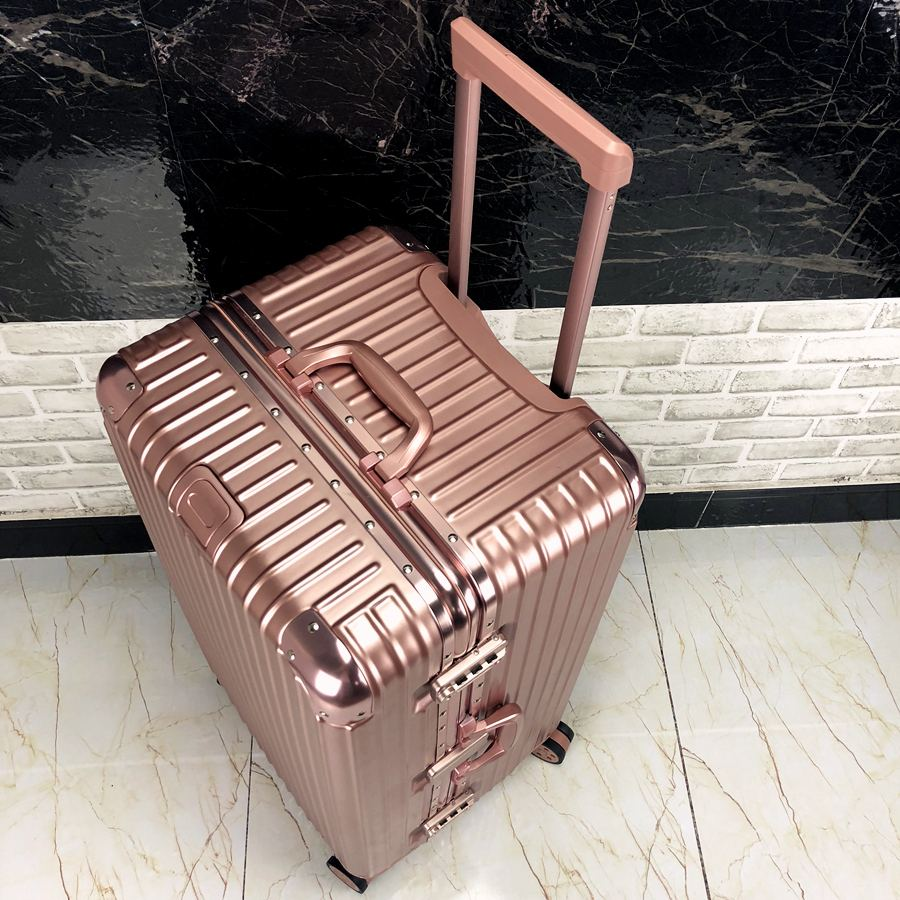box: (95, 224, 646, 877)
handle: (268, 340, 435, 510)
wheel: (532, 720, 575, 767)
